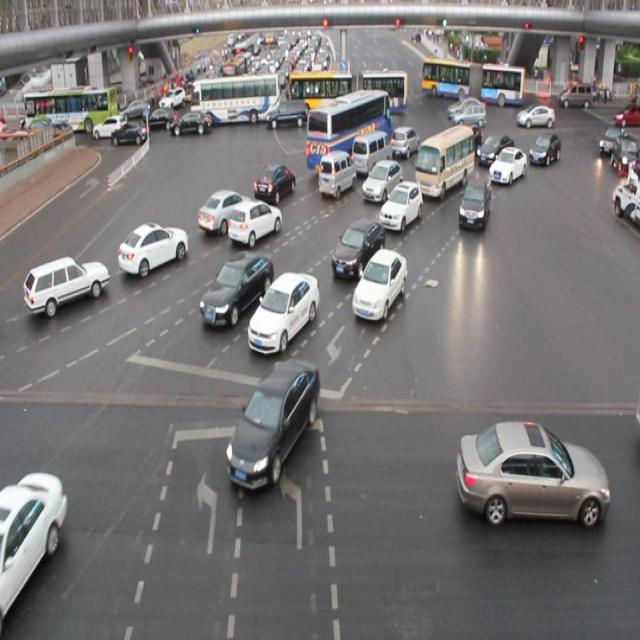car: (456, 414, 610, 530), (227, 356, 320, 495), (1, 466, 67, 640), (248, 270, 320, 356), (201, 253, 273, 330), (23, 254, 109, 318), (117, 220, 188, 278), (352, 252, 408, 322), (331, 219, 386, 279), (227, 196, 282, 248), (196, 186, 254, 235), (380, 182, 423, 233), (456, 173, 488, 230), (361, 159, 401, 202), (254, 163, 296, 203), (487, 145, 526, 186), (476, 134, 515, 166), (527, 130, 559, 168), (390, 125, 419, 161), (452, 120, 480, 156)
truck: (417, 126, 473, 198), (351, 131, 394, 177), (317, 152, 356, 196)
van: (306, 90, 392, 174)
